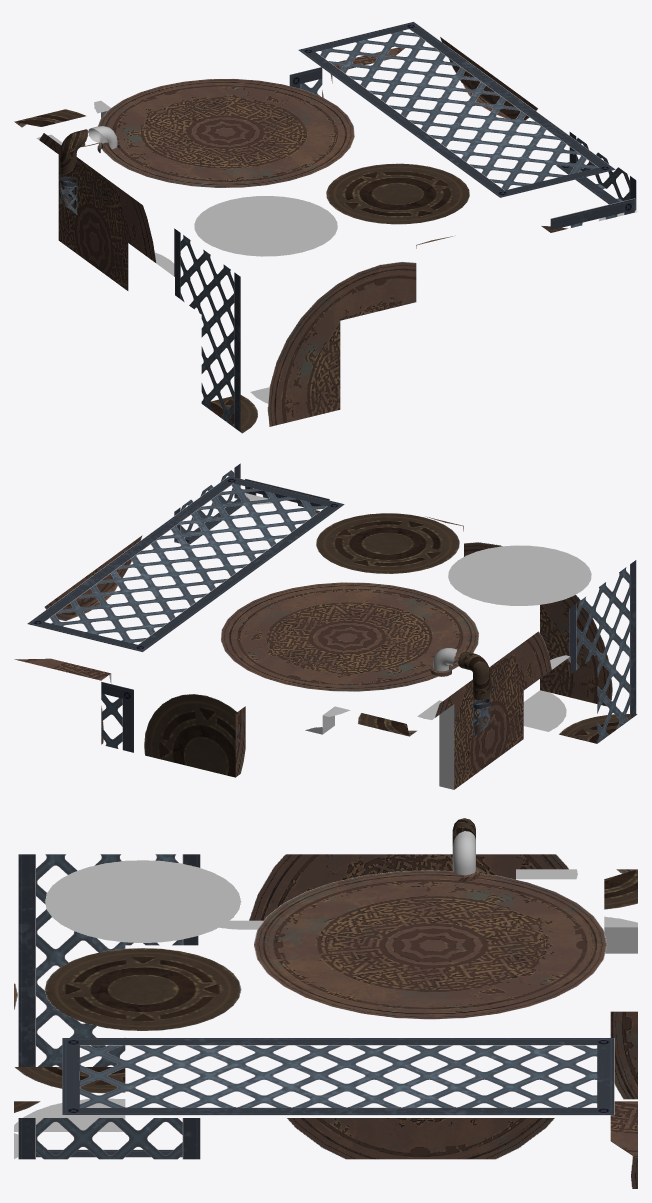
The model's file is Ground_A 1.fbx.
The picture shows the model from 3 angles, top to bottom: view 1: azimuth 30°, elevation 25°; view 2: azimuth 150°, elevation 25°; view 3: azimuth 270°, elevation 25°; orthographic projection. The views are drawn at different scales.
Visible parts, largest first — view 1: Ground_A; view 2: Ground_A; view 3: Ground_A.
Part boxes in pixels (box(x1,y1,x2,y2)): Ground_A: box(14, 21, 637, 433); Ground_A: box(14, 463, 637, 789); Ground_A: box(14, 818, 637, 1188).
Size of the model in its own units: 1711 by 717 by 1644.
